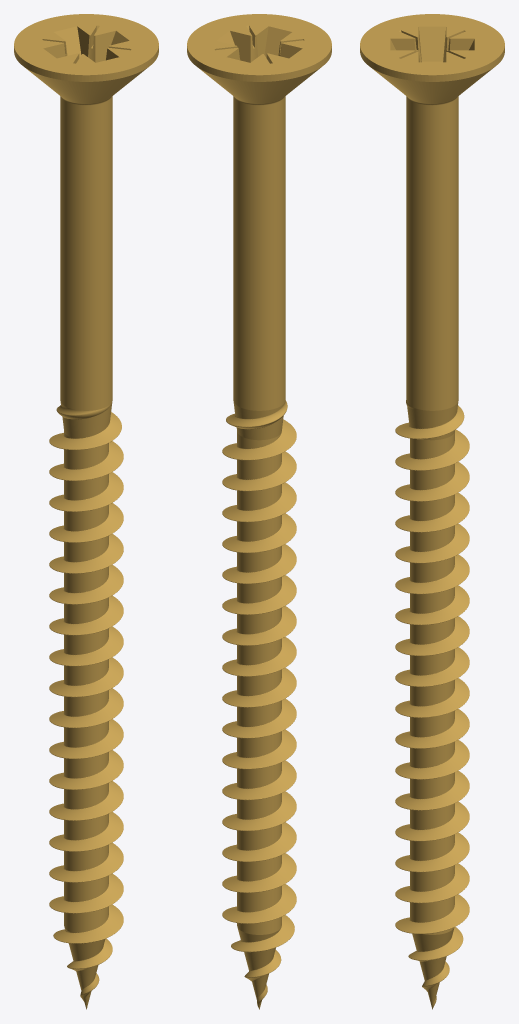
File: model_full.glb
The picture shows the model from 3 angles, left to right: view 1: azimuth 30°, elevation 25°; view 2: azimuth 150°, elevation 25°; view 3: azimuth 270°, elevation 25°; orthographic projection.
Visible parts, largest first — view 1: geometry_0; view 2: geometry_0; view 3: geometry_0.
Part boxes in pixels (<box>): geometry_0: <box>14,14,158,1009</box>; geometry_0: <box>187,14,331,1009</box>; geometry_0: <box>360,14,504,1009</box>.
Bounding box in the file's own units: 0.0068 × 0.05 × 0.0068.
